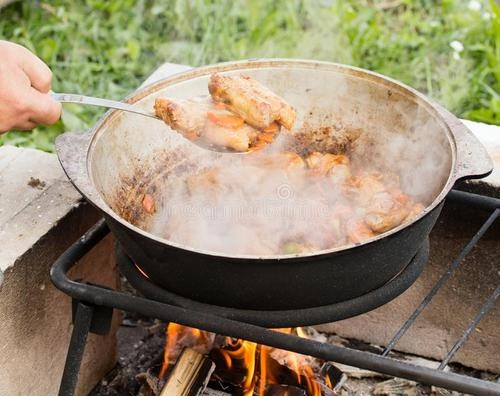fire: (220, 332, 332, 396), (158, 321, 213, 379), (268, 323, 309, 339)
